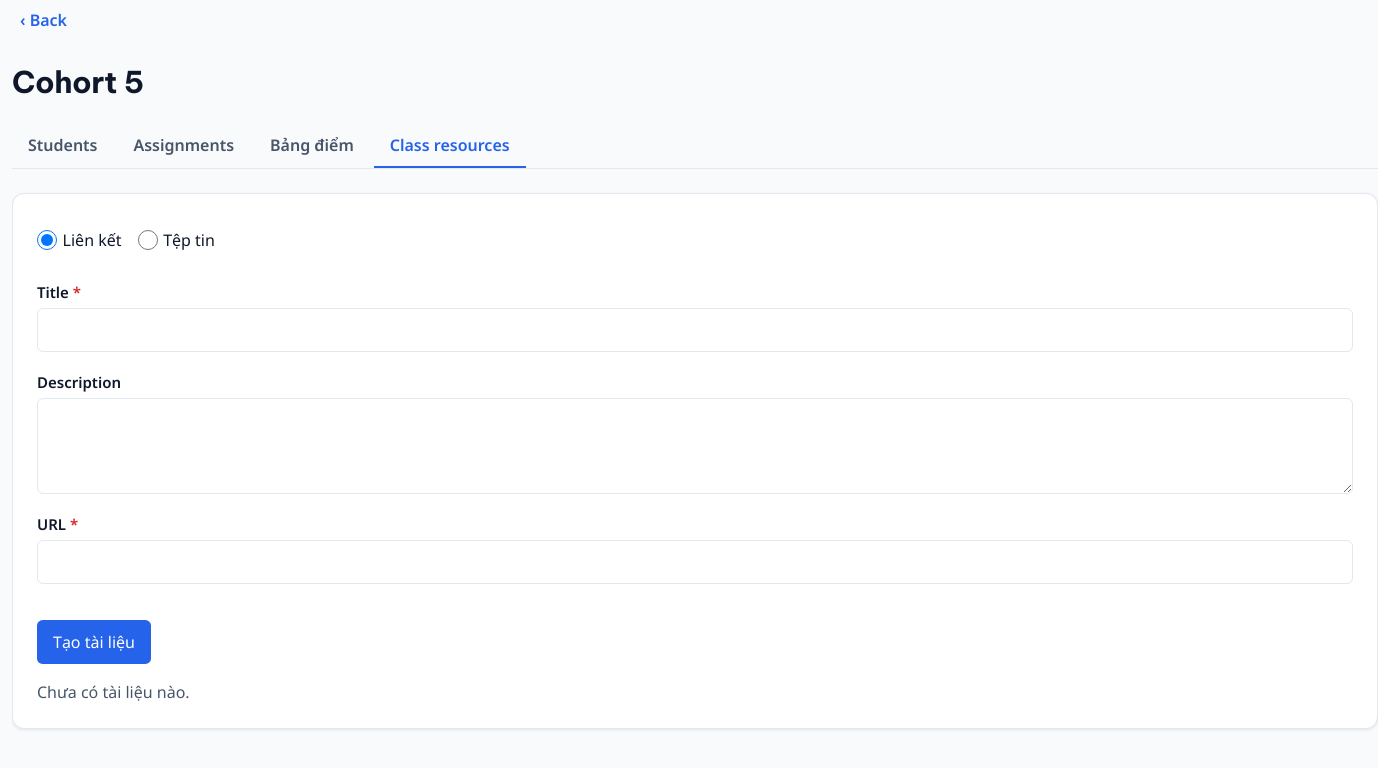
Test case: Teacher class resources › shows the server validation message when the URL is rejected
Type "Bad" into the field labelled "Title" at (695, 330), box 37,308 -> 1353,352
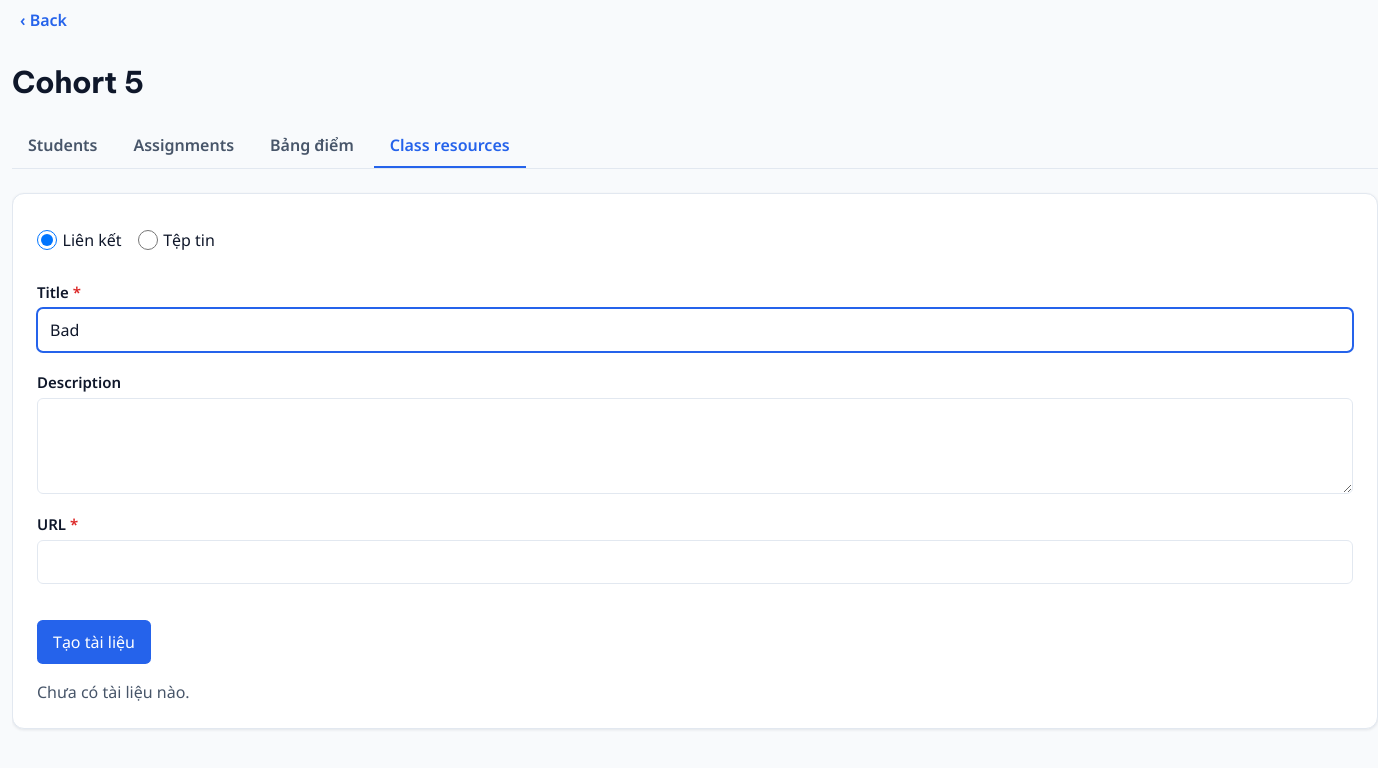
Type "not-a-url" into the field labelled "URL" at (695, 562), box 37,540 -> 1353,584
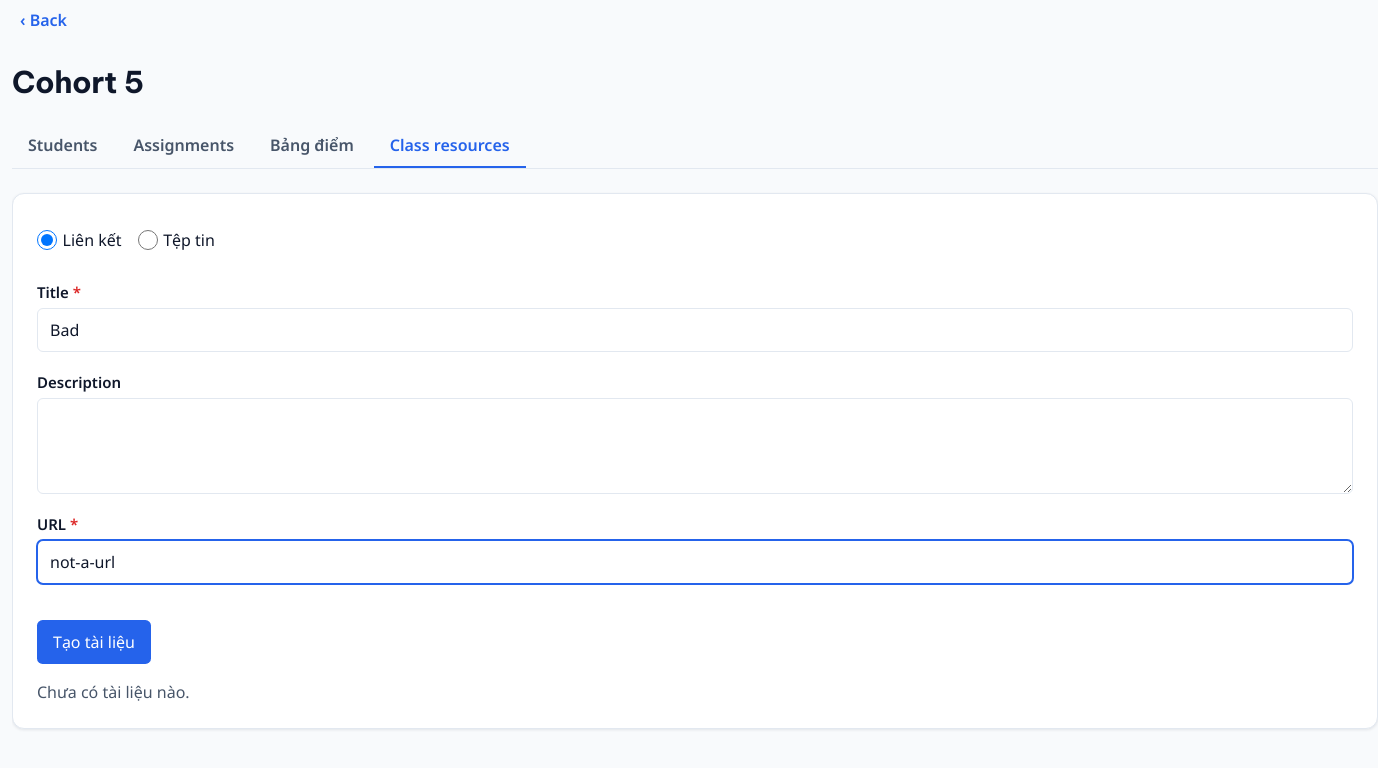
Click the button "Tạo tài liệu" at (94, 642), box 37,620 -> 151,664
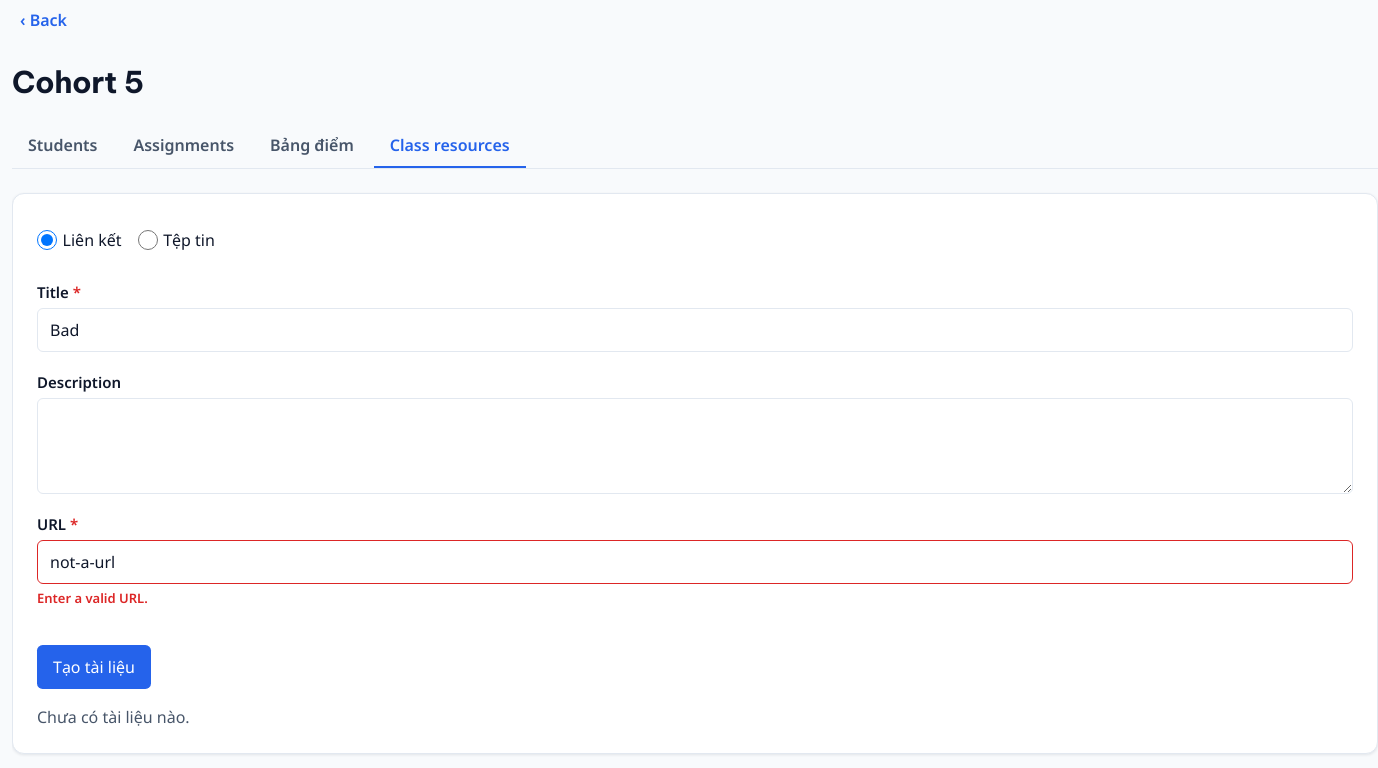
Expected: the text "Enter a valid URL." is shown, 37,589 -> 148,607
